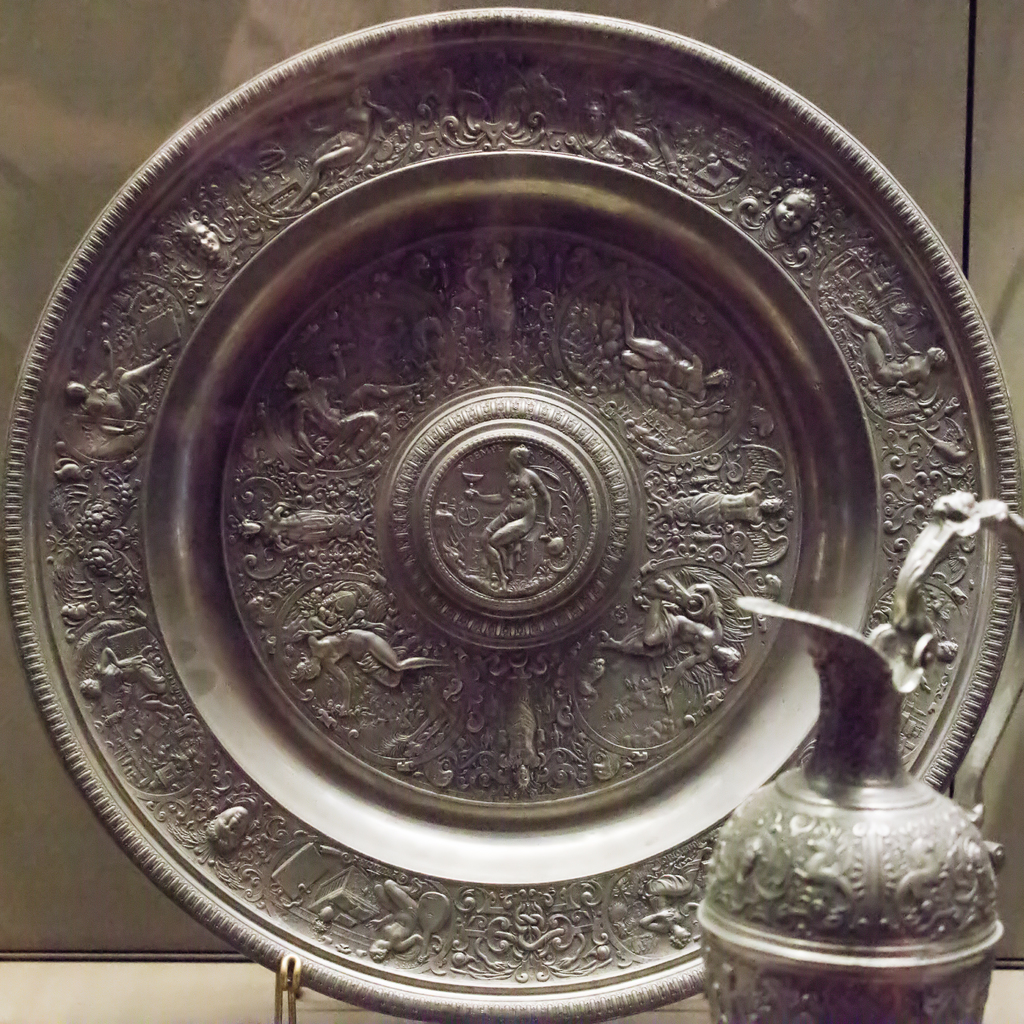plate: (0, 8, 1021, 1023)
